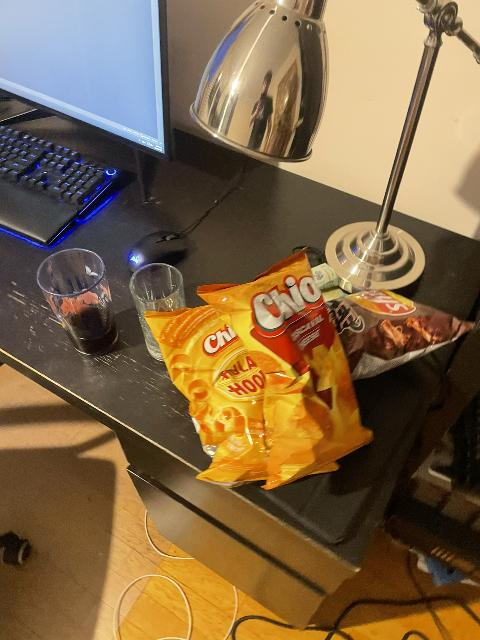Chio Cascaval 125g: (197, 248, 374, 489)
Chio Hula Hoops Cheese 70g: (148, 293, 342, 484)
Lays Beef Grilled Ribs 125g: (328, 289, 475, 375)
